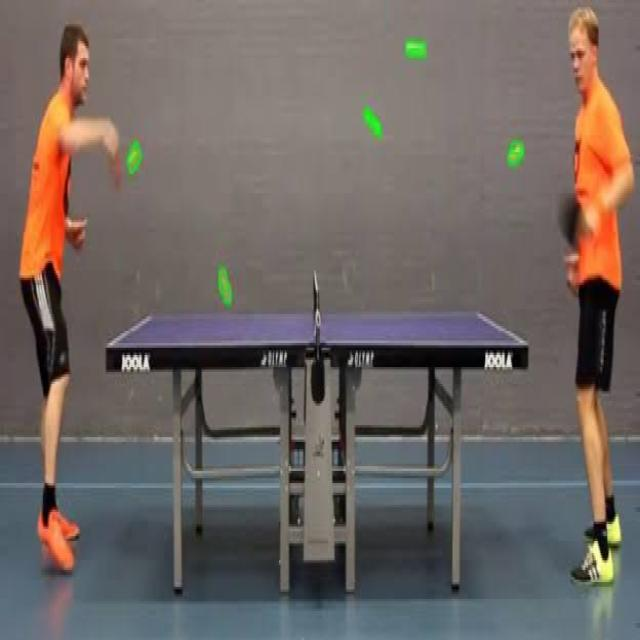TT Net: (311, 259, 321, 367)
TT Racket: (557, 183, 585, 257)
TT Table: (106, 309, 527, 350)
